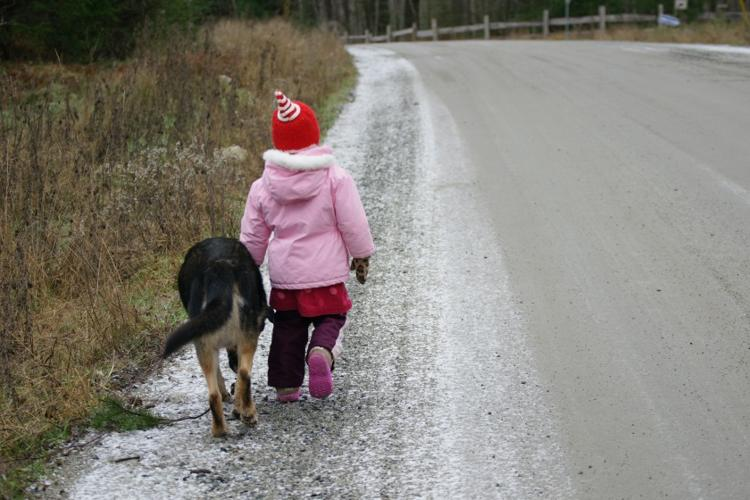person: (235, 102, 370, 404)
